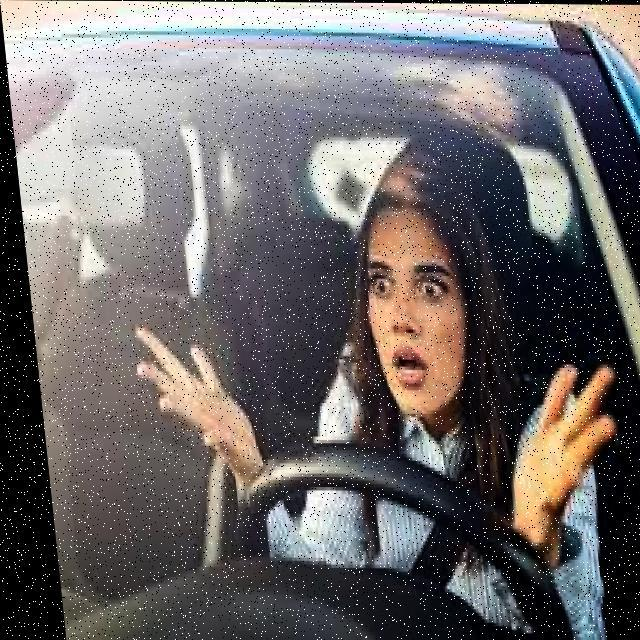seatbelt: (316, 348, 576, 600)
